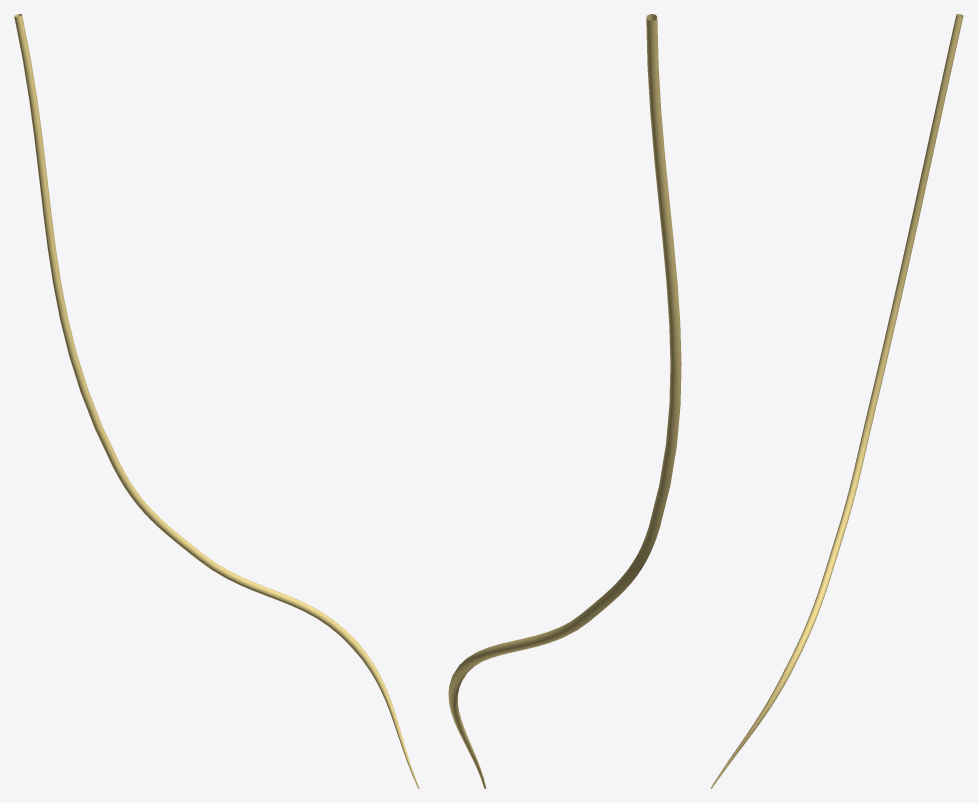
3 renders of one model, left to right at view 1: azimuth 30°, elevation 25°; view 2: azimuth 150°, elevation 25°; view 3: azimuth 270°, elevation 25°, orthographic. The views are drawn at different scales.
Visible parts, largest first — view 1: ZA_3e66ecb4a51e8474; view 2: ZA_3e66ecb4a51e8474; view 3: ZA_3e66ecb4a51e8474.
Boxes of the visible parts, x1,y1,x2,y2 form: ZA_3e66ecb4a51e8474: [14, 14, 419, 788]; ZA_3e66ecb4a51e8474: [448, 14, 681, 788]; ZA_3e66ecb4a51e8474: [710, 14, 963, 788].
Bounding box in the file's own units: 0.0373 × 0.0986 × 0.0343.
